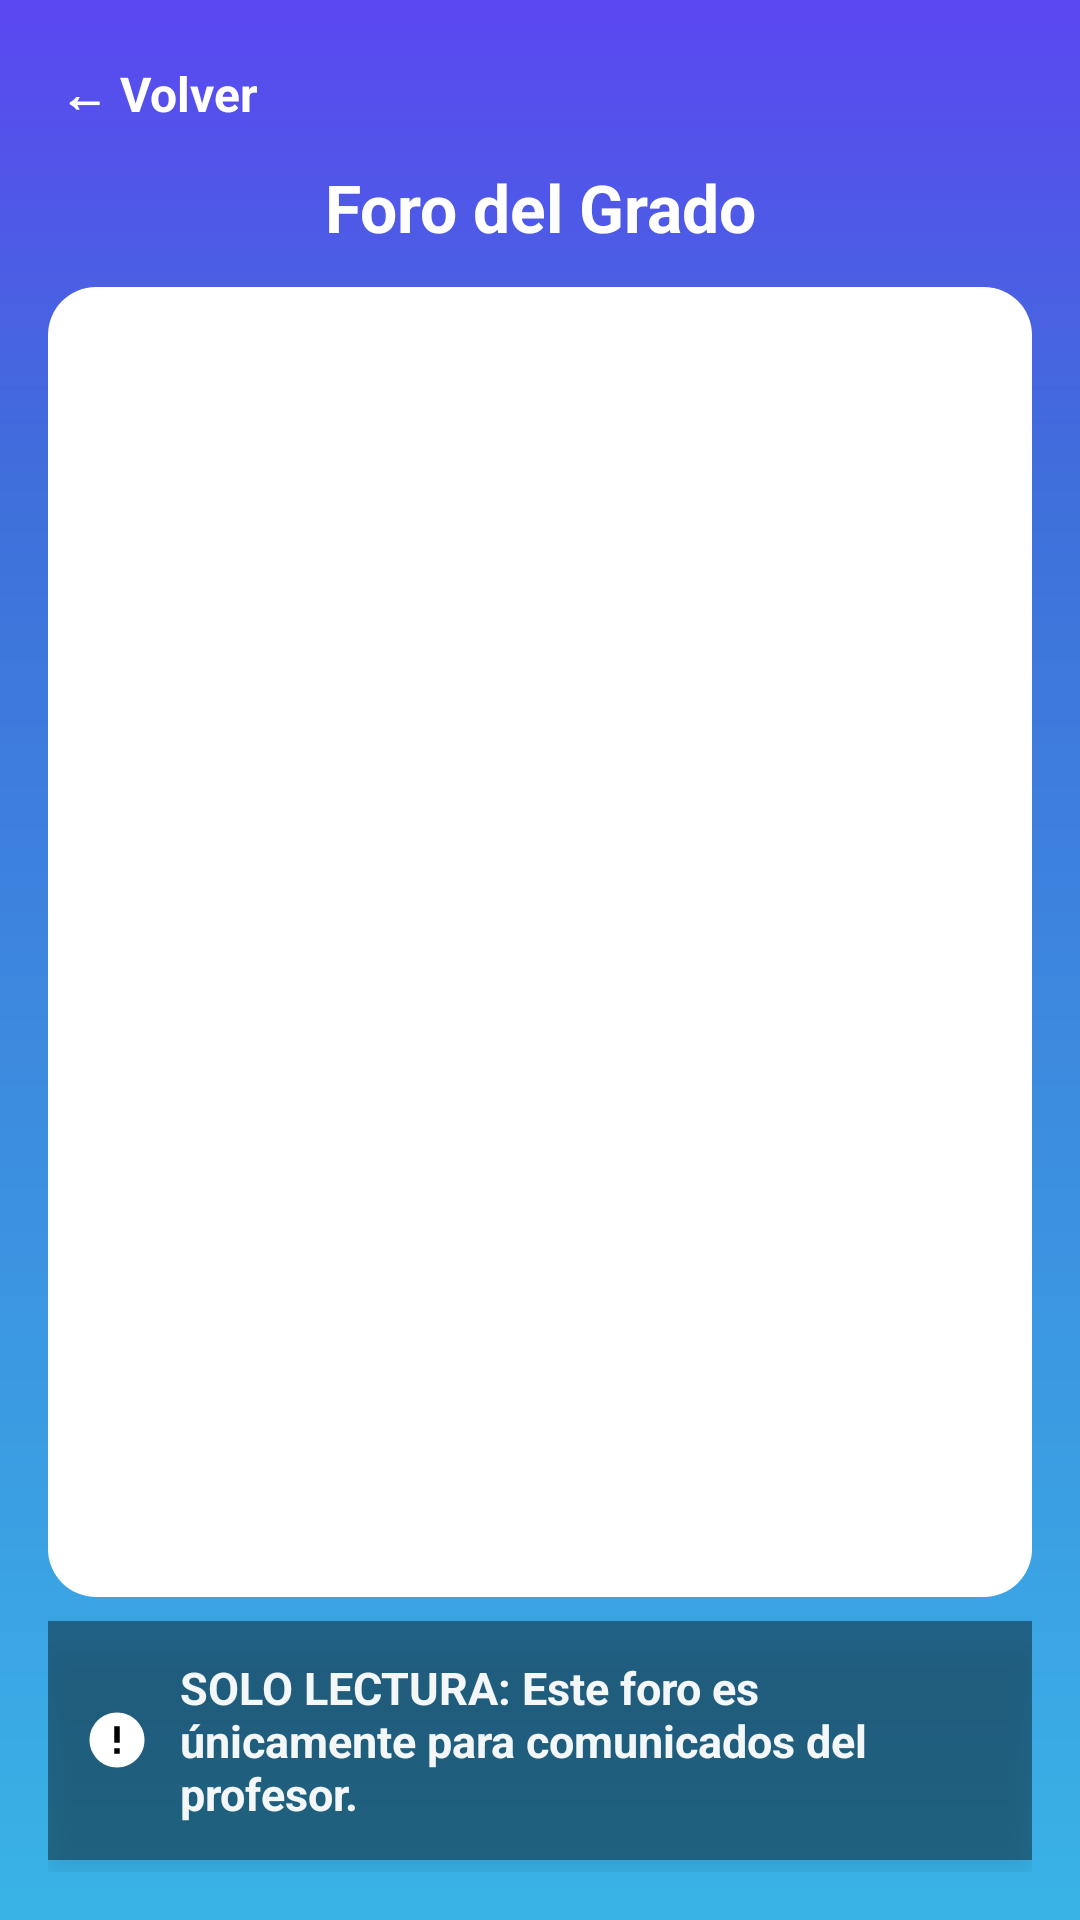

Icons on this 1080×1920 Android screen, each with its box as region(x1, y1, x2, y2):
warning: region(89, 1712, 145, 1768)
